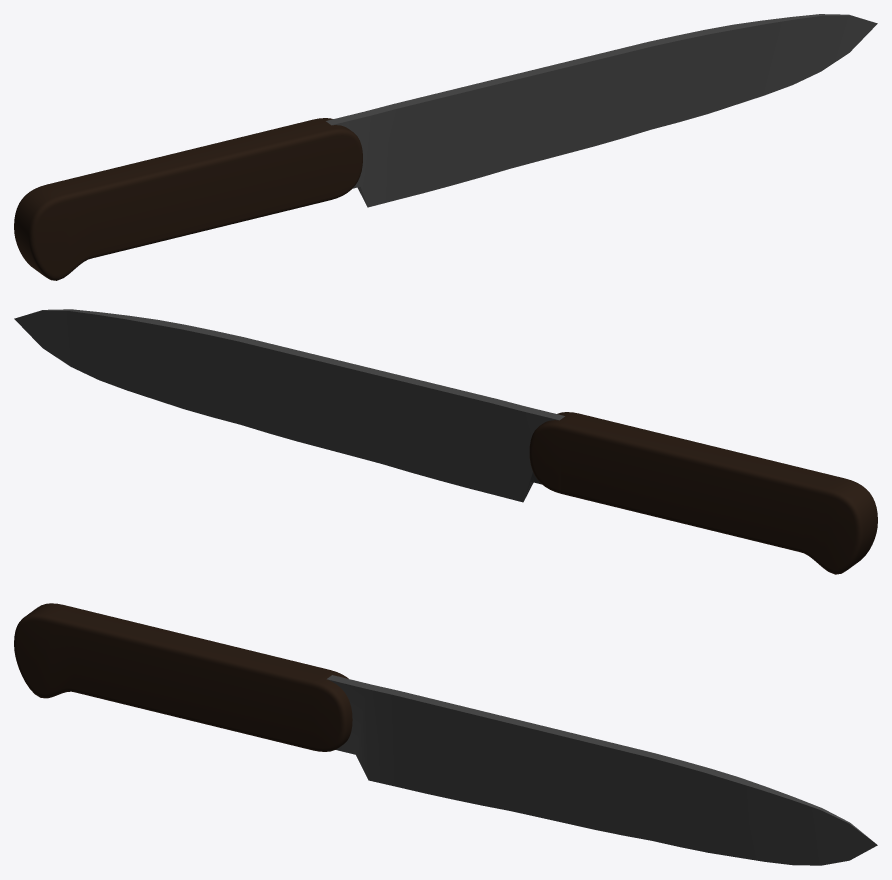
Rendered from Knife.fbx.
3 views of the same model, one above another, from view 1: azimuth 30°, elevation 25°; view 2: azimuth 150°, elevation 25°; view 3: azimuth 330°, elevation 25° (orthographic).
Visible parts, largest first — view 1: Knife; view 2: Knife; view 3: Knife.
Part boxes in pixels (x1=…): Knife: x1=14, y1=14, x2=877, y2=280; Knife: x1=14, y1=309, x2=877, y2=574; Knife: x1=14, y1=603, x2=877, y2=865.
Bounding box in the file's own units: 25.69 × 2.71 × 1.
